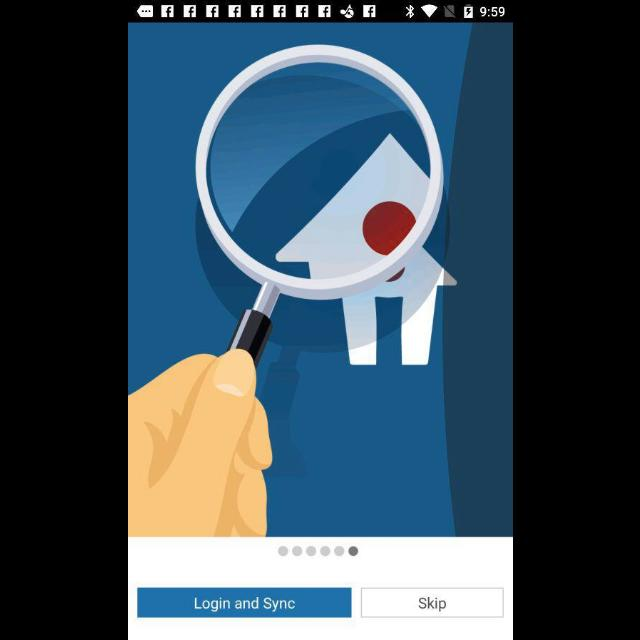image: (128, 24, 512, 536)
pageindicator: (276, 545, 358, 557)
textbutton: (136, 588, 352, 618), (361, 588, 503, 618)
uppertaskbar: (128, 1, 512, 23)
